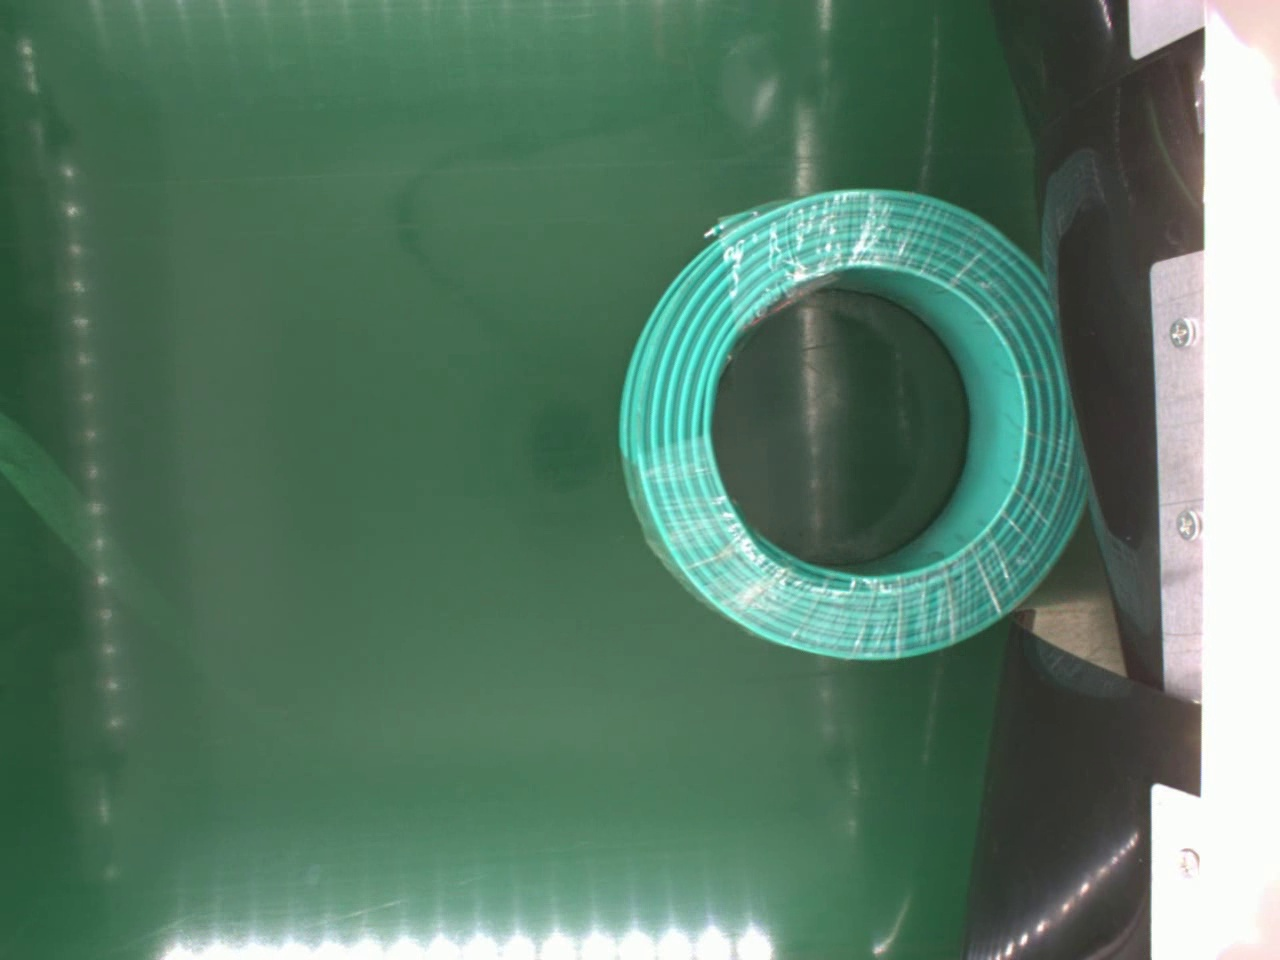green: (617, 179, 1092, 659)
